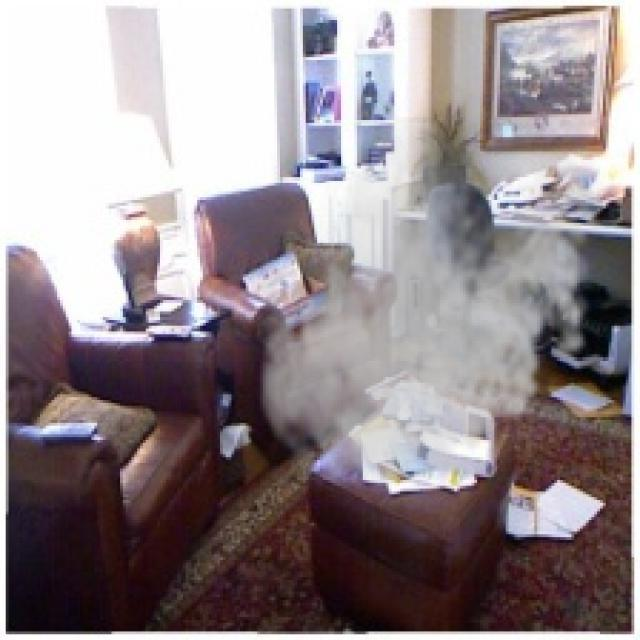Smoke: (252, 117, 612, 503)
